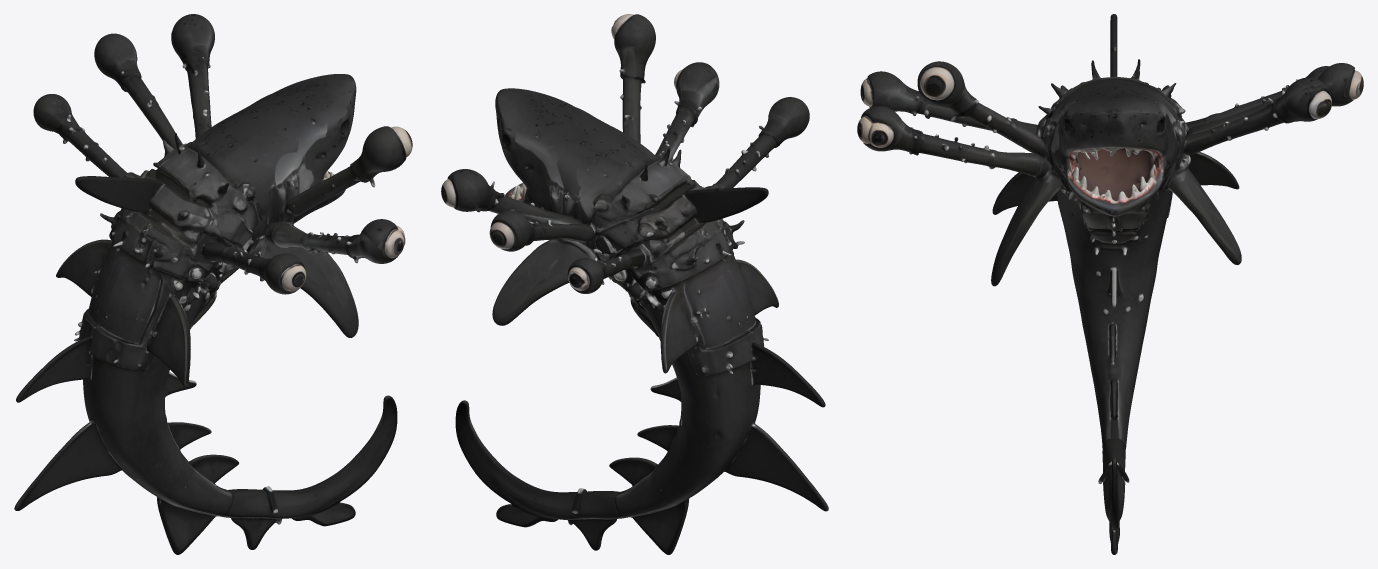
File: hammer_x4.glb
3 views of the same model, side by side, from view 1: azimuth 30°, elevation 25°; view 2: azimuth 150°, elevation 25°; view 3: azimuth 270°, elevation 25° (orthographic). The views are drawn at different scales.
Visible parts, largest first — view 1: tripo_node_c92d3da7-fb2b-492f-9495-f268dcaeb798; view 2: tripo_node_c92d3da7-fb2b-492f-9495-f268dcaeb798; view 3: tripo_node_c92d3da7-fb2b-492f-9495-f268dcaeb798.
Boxes of the visible parts, x1,y1,x2,y2 form: tripo_node_c92d3da7-fb2b-492f-9495-f268dcaeb798: (14, 14, 412, 554); tripo_node_c92d3da7-fb2b-492f-9495-f268dcaeb798: (441, 14, 828, 554); tripo_node_c92d3da7-fb2b-492f-9495-f268dcaeb798: (857, 14, 1363, 554).
Size of the model in its own units: 0.8449 by 1 by 0.968.
1 material, 1 textured.
